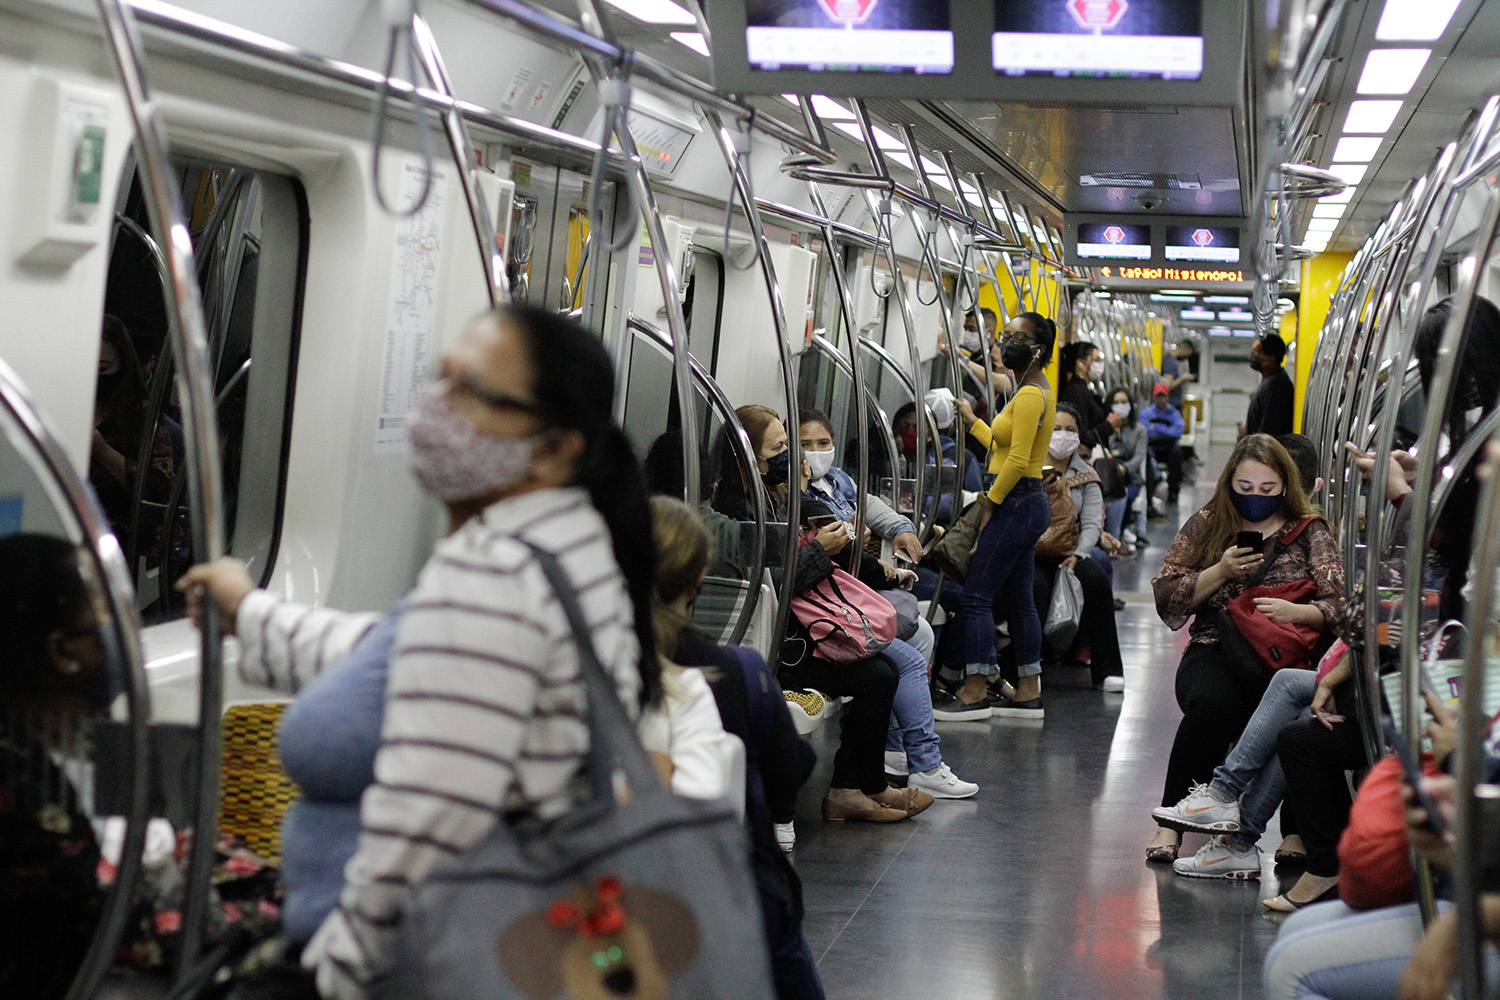with_mask: (398, 334, 580, 511), (1224, 460, 1295, 523), (793, 425, 843, 481), (997, 320, 1044, 375), (1047, 413, 1082, 463), (963, 311, 995, 356), (1108, 391, 1137, 422)
